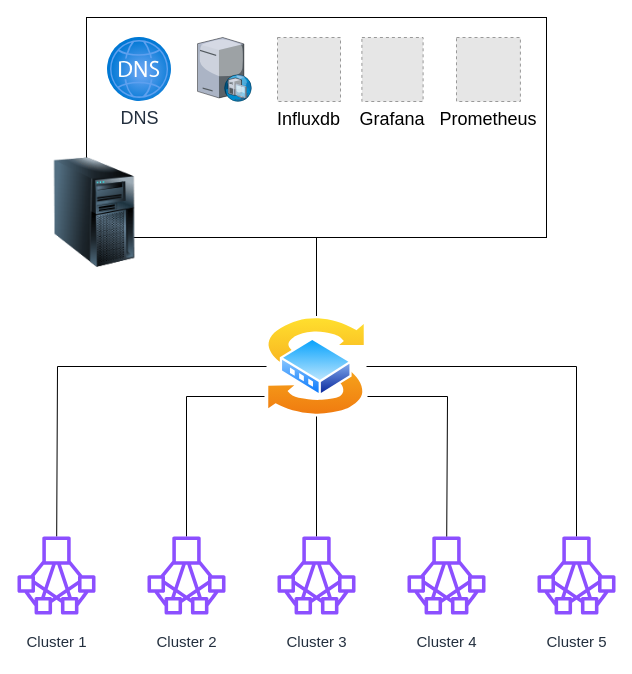
This 632x674 diagram has some shape labels left out. Grey dashed boxes stand in for pictures. The shapes that lost their labels are listed below. From the top down, each one's centre as x and y in pixels, then its label:
At point 224,69: "DHCP".
At point 94,212: "Server".
